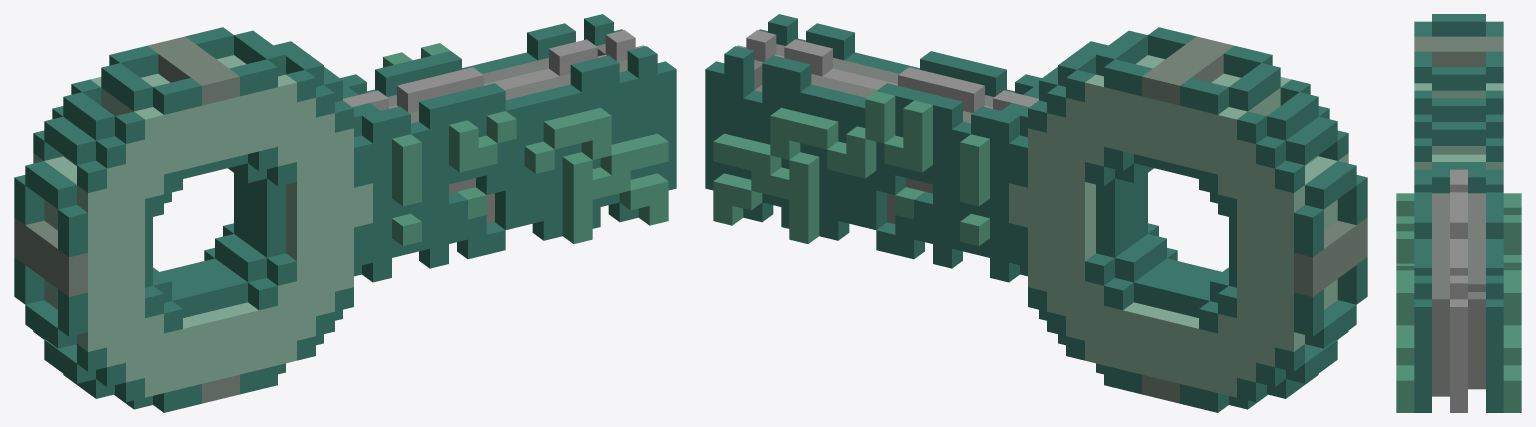
3 views of the same model, side by side, from view 1: azimuth 30°, elevation 25°; view 2: azimuth 150°, elevation 25°; view 3: azimuth 270°, elevation 25° (orthographic). The views are drawn at different scales.
Size of the model in its own units: 1.6 by 0.8 by 0.35.
